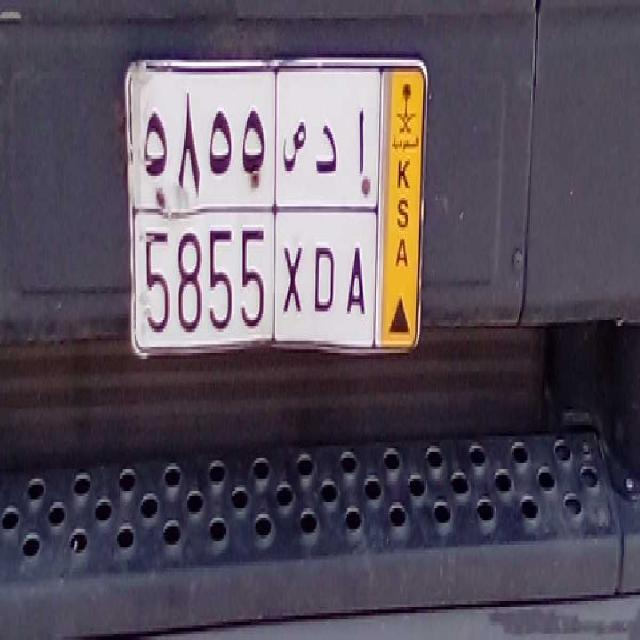license_plate: (132, 206, 376, 346)
